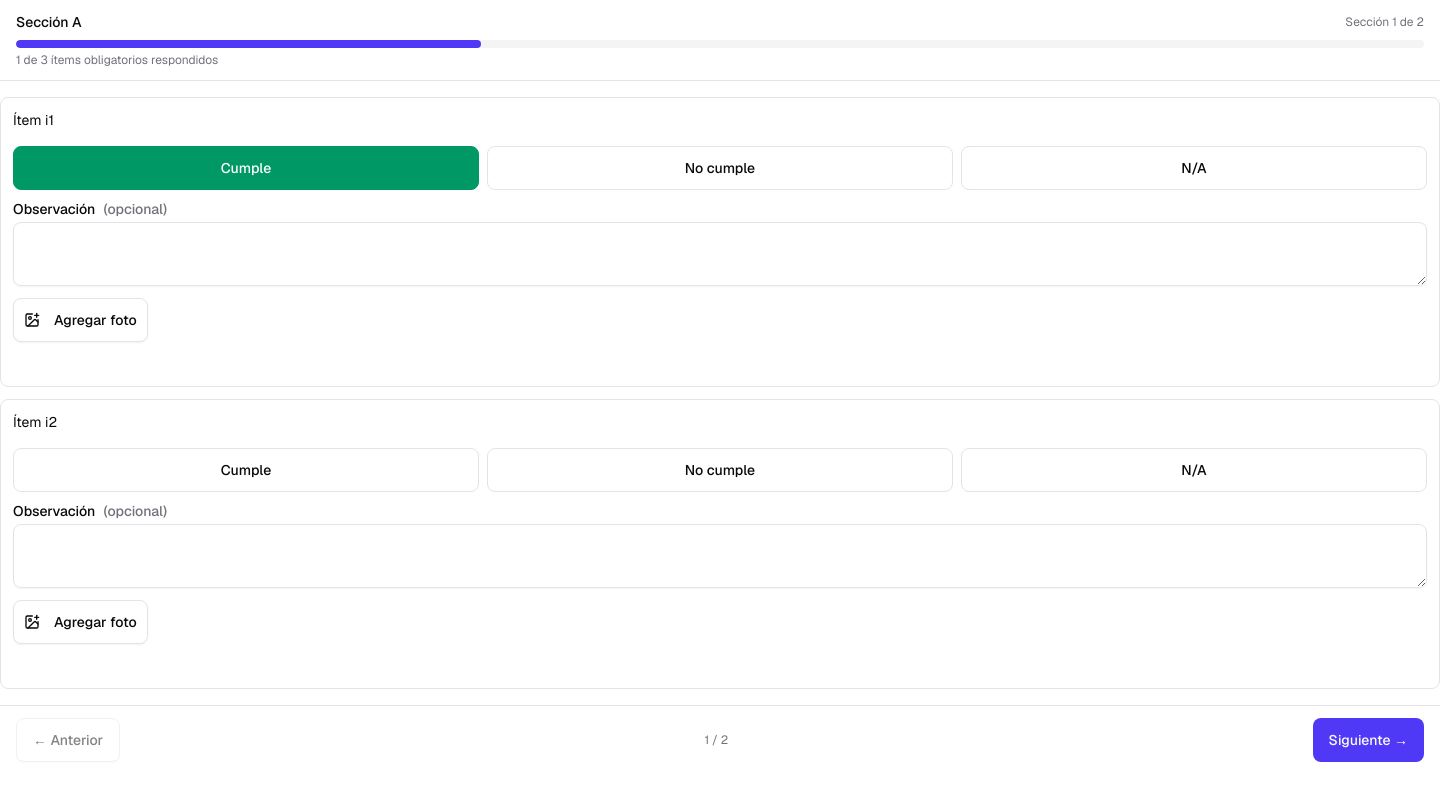
EjecucionRunner › última sección incompleta: owner ve "Cierre con firma" (no "pedile al titular", no CTA)
Click the button "Siguiente →" at (1368, 740), box [1313, 718, 1424, 762]
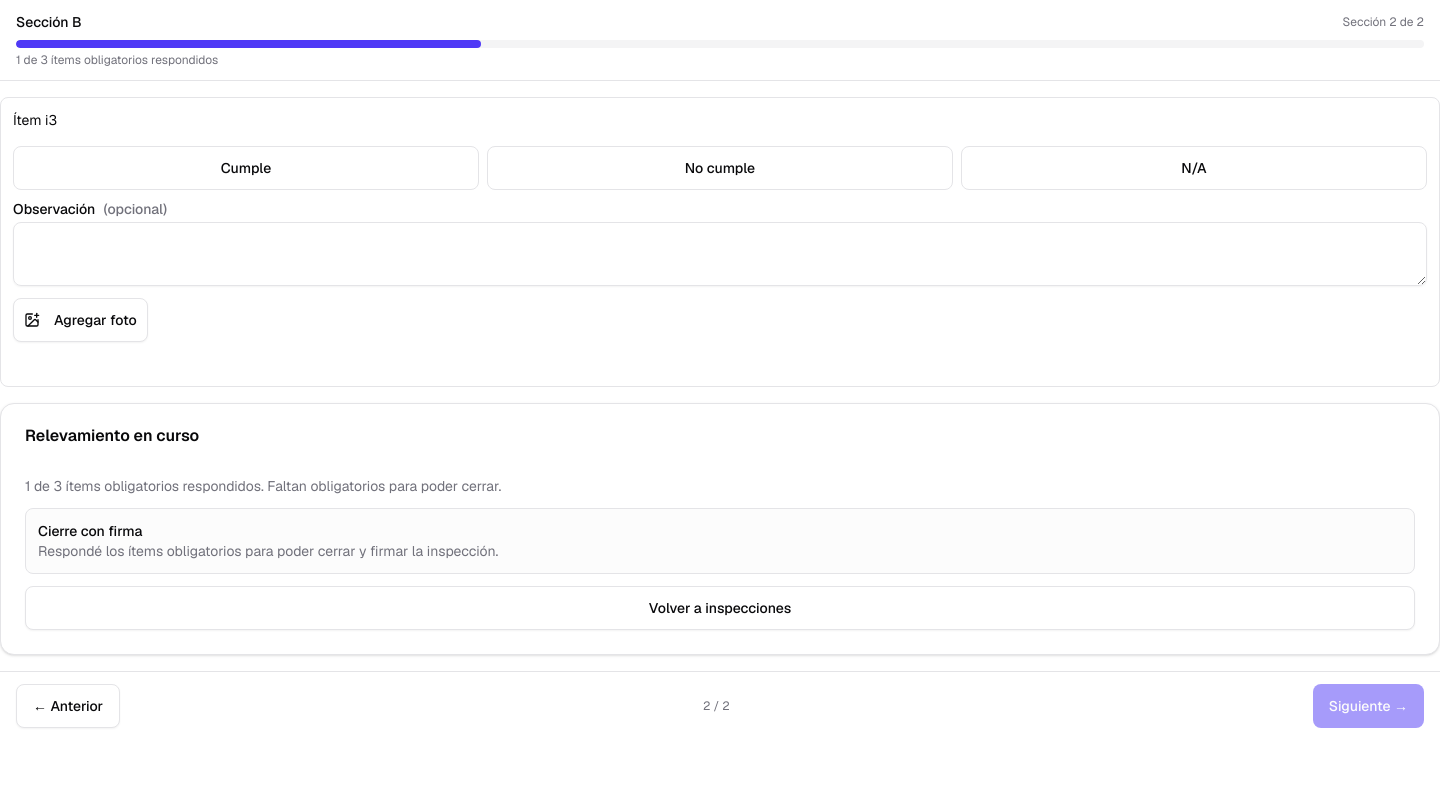
Expected: the text "Cierre con firma" is shown, [38, 522, 142, 540]
